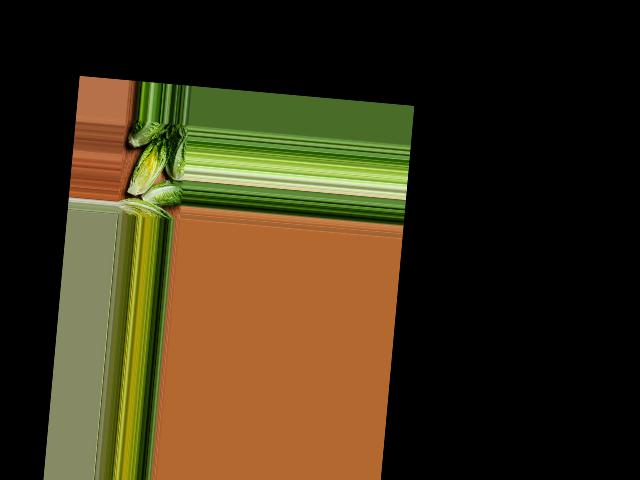lettuce: (117, 195, 174, 220)
